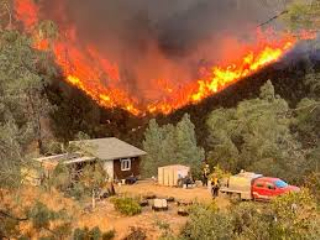fire: (13, 6, 300, 109)
